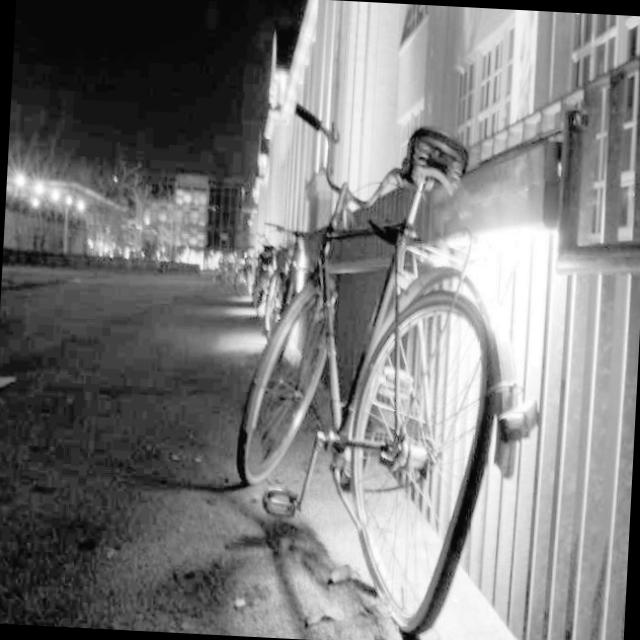Bicycle: (221, 97, 520, 640), (252, 204, 318, 318)
